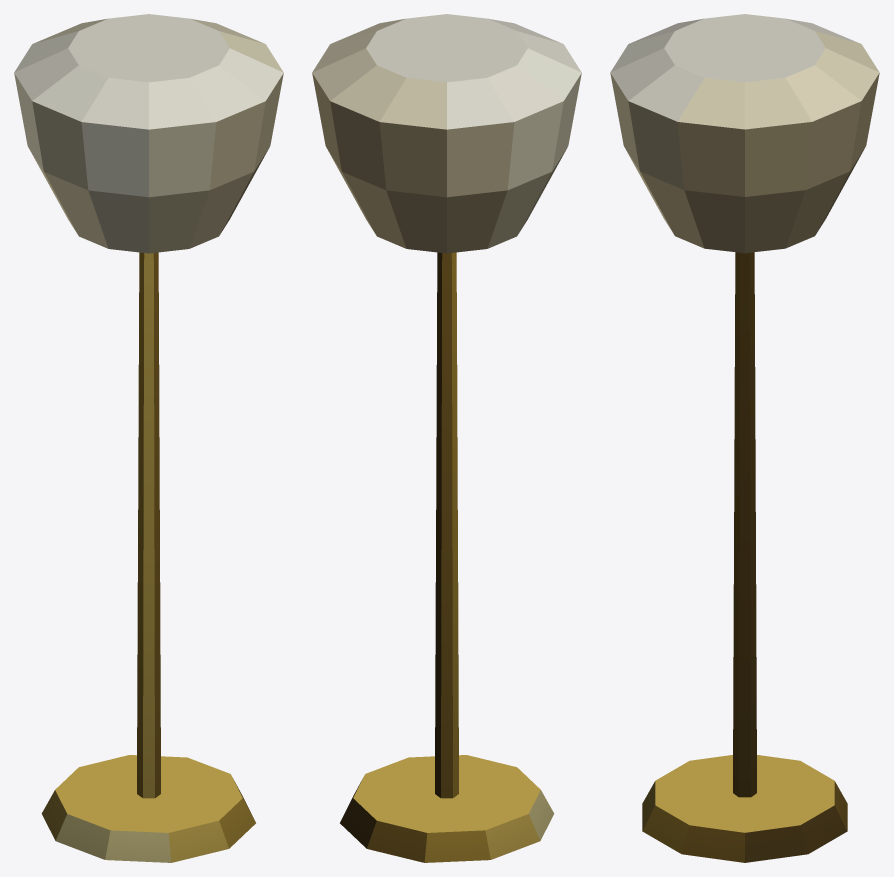
File: floor_lamp.glb
The picture shows the model from 3 angles, left to right: view 1: azimuth 30°, elevation 25°; view 2: azimuth 150°, elevation 25°; view 3: azimuth 270°, elevation 25°; orthographic projection.
Visible parts, largest first — view 1: floor_lamp; view 2: floor_lamp; view 3: floor_lamp.
Part boxes in pixels (left/top/right/bottom): floor_lamp: left=14, top=14, right=283, bottom=862; floor_lamp: left=312, top=14, right=581, bottom=862; floor_lamp: left=610, top=14, right=879, bottom=862.
Size of the model in its own units: 0.4 by 1.26 by 0.4.
